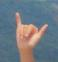clockwise: (13, 10, 51, 52)
